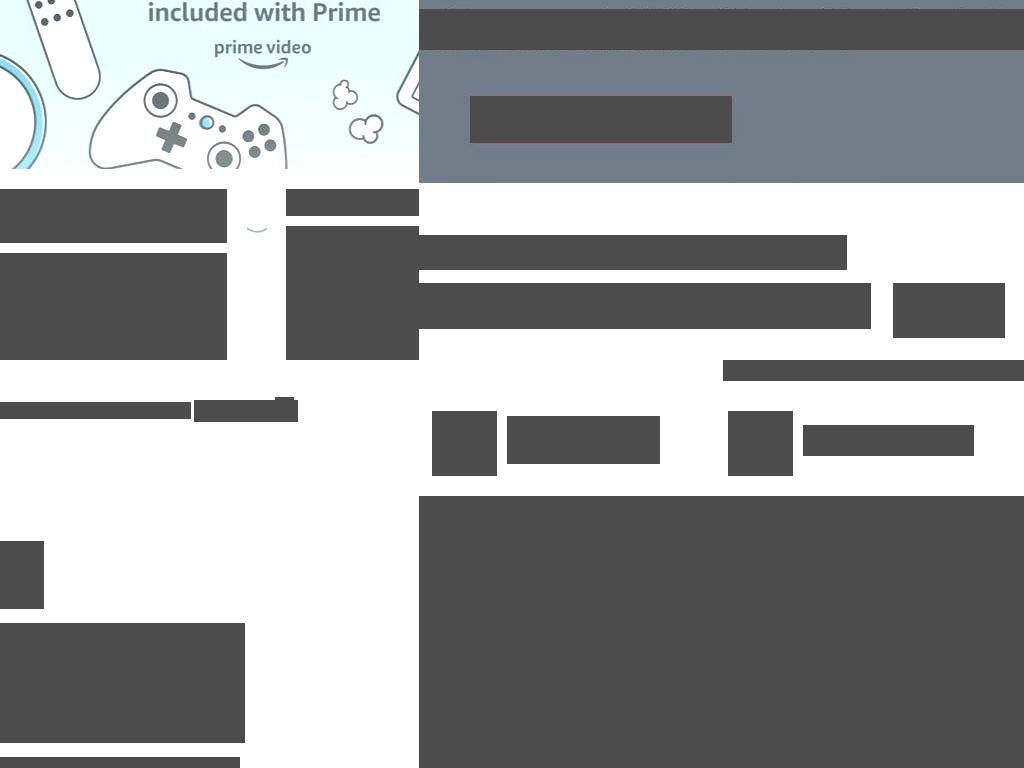button: (0, 253, 227, 360), (286, 226, 419, 360), (470, 96, 732, 143), (723, 360, 1024, 381), (893, 283, 1005, 338), (432, 411, 497, 476), (728, 411, 793, 476), (194, 400, 298, 422)
field: (419, 283, 871, 329)
heading: (0, 623, 245, 743), (0, 189, 227, 243), (588, 235, 847, 270), (507, 416, 660, 464), (723, 360, 1024, 381), (803, 425, 974, 456), (286, 189, 419, 216), (496, 235, 589, 270), (419, 235, 497, 270)
image: (419, 496, 1024, 768), (0, 253, 227, 360), (286, 226, 419, 360), (432, 411, 497, 476), (728, 411, 793, 476), (0, 541, 44, 609), (275, 397, 294, 416)
link: (683, 34, 856, 50)
text: (419, 9, 1024, 50), (0, 402, 191, 419), (194, 401, 271, 421)
